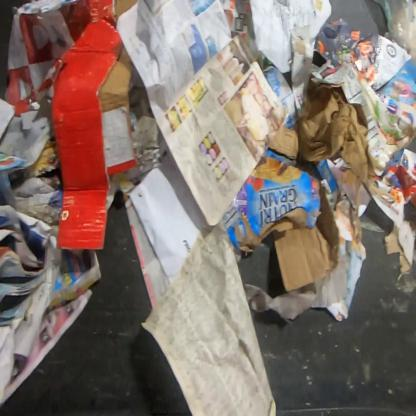cardboard: (51, 0, 140, 252), (222, 148, 339, 292), (268, 78, 384, 184)
soft_plastic: (383, 1, 415, 72)
